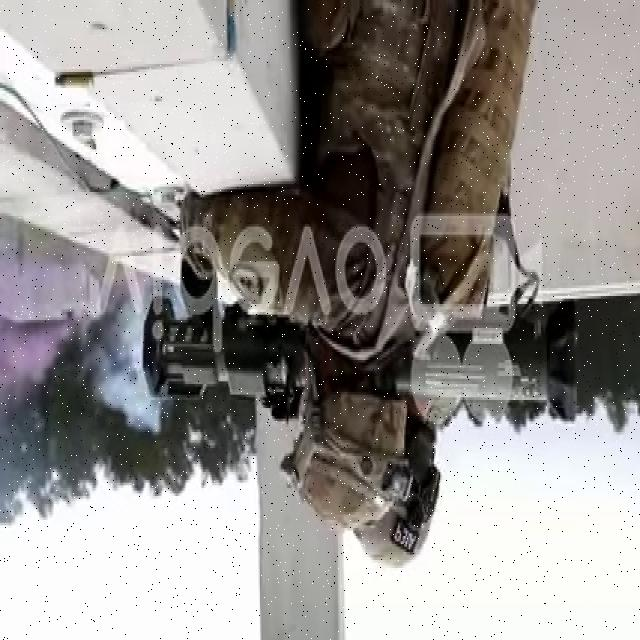bazooka: (143, 293, 592, 421)
